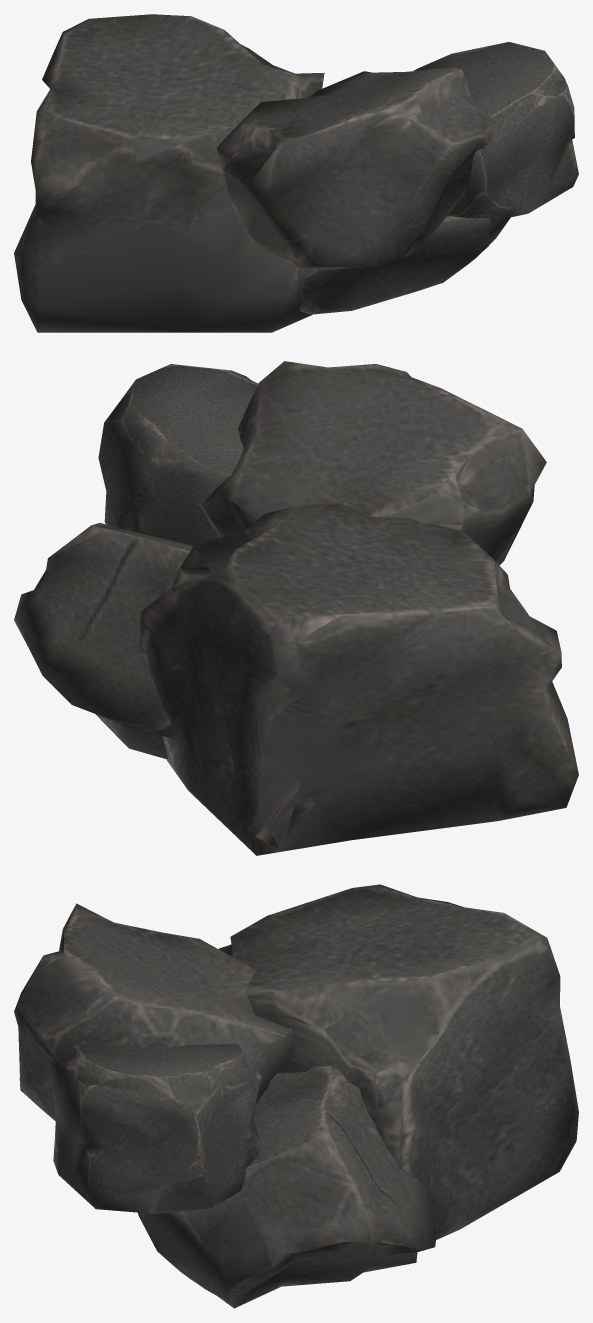
Rendered from cliff_dark_pile.gltf.
3 views of the same model, one above another, from view 1: azimuth 30°, elevation 25°; view 2: azimuth 150°, elevation 25°; view 3: azimuth 270°, elevation 25° (orthographic). The views are drawn at different scales.
Visible parts, largest first — view 1: cliff_dark_pile; view 2: cliff_dark_pile; view 3: cliff_dark_pile.
Part boxes in pixels (x1=…): cliff_dark_pile: x1=14, y1=14, x2=578, y2=332; cliff_dark_pile: x1=14, y1=361, x2=578, y2=855; cliff_dark_pile: x1=14, y1=884, x2=578, y2=1308.
Bounding box in the file's own units: 1.42 × 0.7 × 1.28.
1 material, 1 textured.
